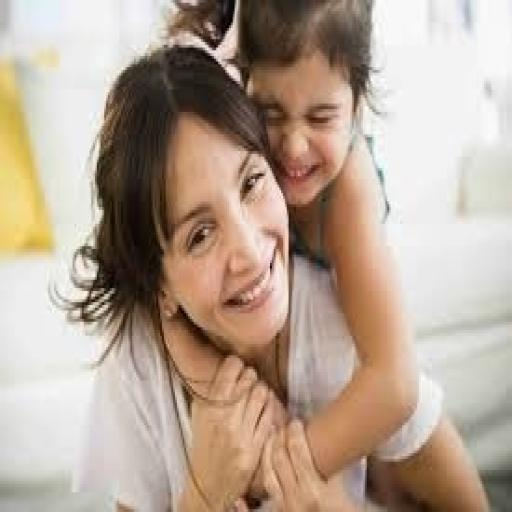hugging: (50, 3, 492, 509)
